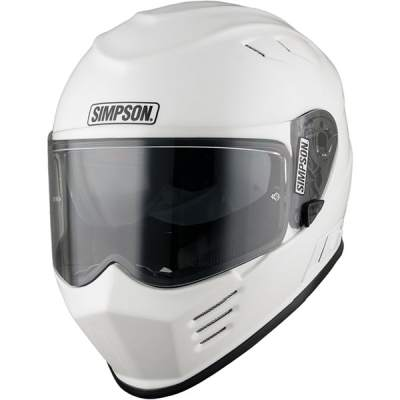with_helmet: (41, 1, 356, 400)
